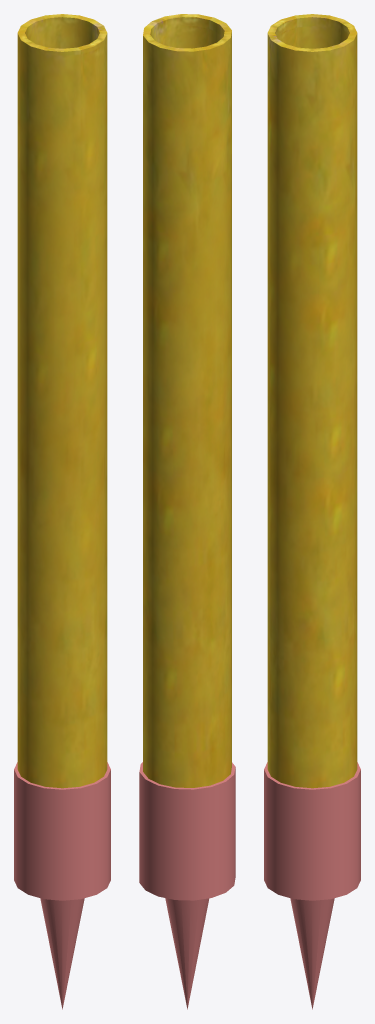
The model's file is Cake_Firework.fbx.
The picture shows the model from 3 angles, left to right: view 1: azimuth 90°, elevation 25°; view 2: azimuth 210°, elevation 25°; view 3: azimuth 270°, elevation 25°; orthographic projection.
Visible parts, largest first — view 1: Body, Base; view 2: Body, Base; view 3: Body, Base.
Boxes of the visible parts, x1=… form: Body: x1=17, y1=14, x2=107, y2=788; Base: x1=14, y1=762, x2=110, y2=1009; Body: x1=143, y1=14, x2=231, y2=787; Base: x1=139, y1=762, x2=235, y2=1009; Body: x1=267, y1=14, x2=357, y2=788; Base: x1=264, y1=762, x2=360, y2=1009.
Bounding box in the file's own units: 2.06 × 22.88 × 2.06.
2 materials, 1 textured.
